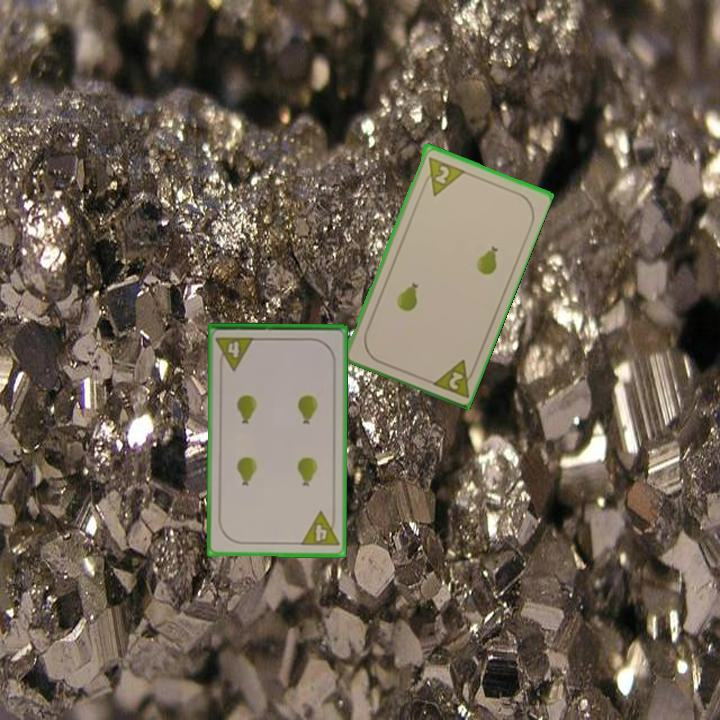2p: (427, 355, 479, 400), (417, 153, 466, 198)
4p: (297, 508, 342, 549), (213, 333, 257, 373)
